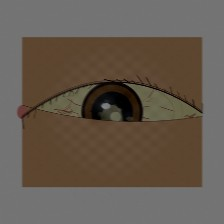corneal_ulcer: (88, 100, 135, 138)
